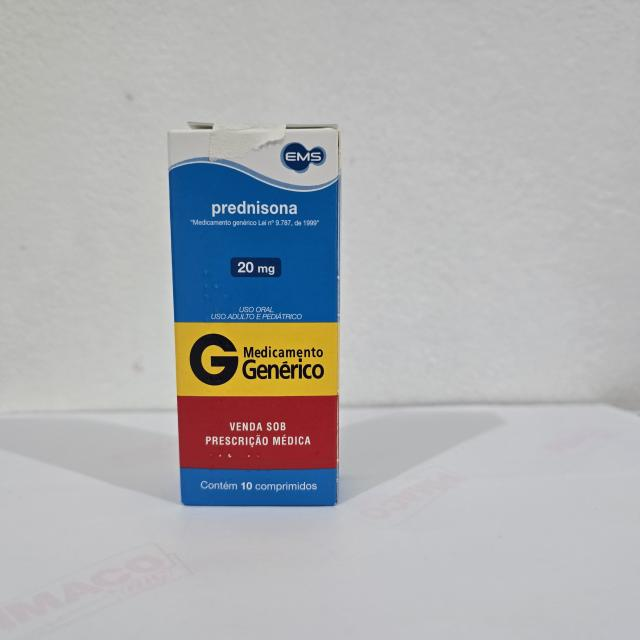prednisona: (163, 117, 344, 513)
